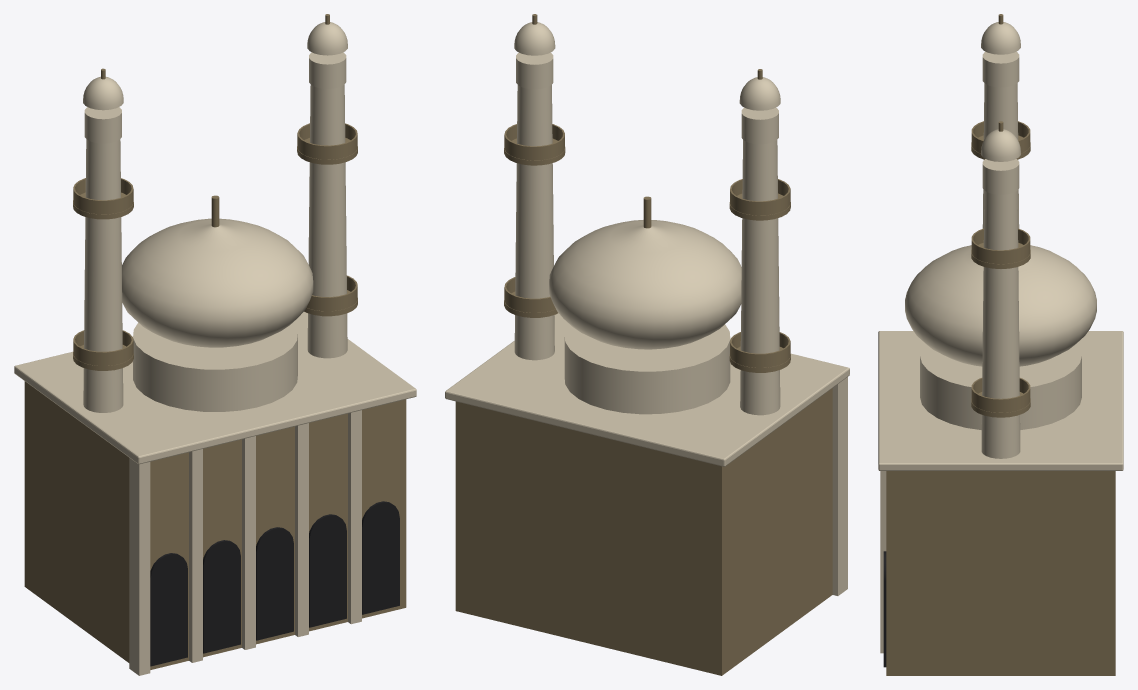
The model's file is KIT_MOSQUE.glb.
3 views of the same model, side by side, from view 1: azimuth 30°, elevation 25°; view 2: azimuth 150°, elevation 25°; view 3: azimuth 270°, elevation 25° (orthographic). The views are drawn at different scales.
Visible parts, largest first — view 1: KIT_MOSQUE; view 2: KIT_MOSQUE; view 3: KIT_MOSQUE.
Part boxes in pixels (left/top/right/bottom): KIT_MOSQUE: left=14, top=14, right=416, bottom=675; KIT_MOSQUE: left=445, top=14, right=849, bottom=675; KIT_MOSQUE: left=878, top=14, right=1123, bottom=675.
Bounding box in the file's own units: 17.9 × 34.05 × 13.9.
